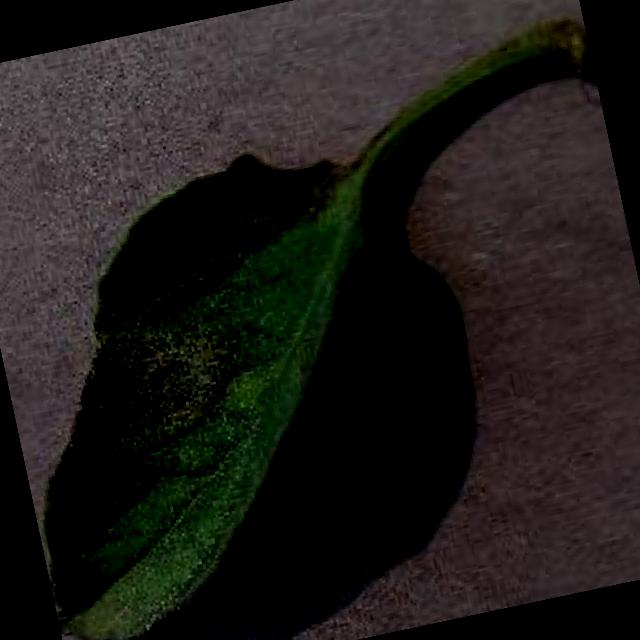leaf blight: (38, 17, 579, 640)
